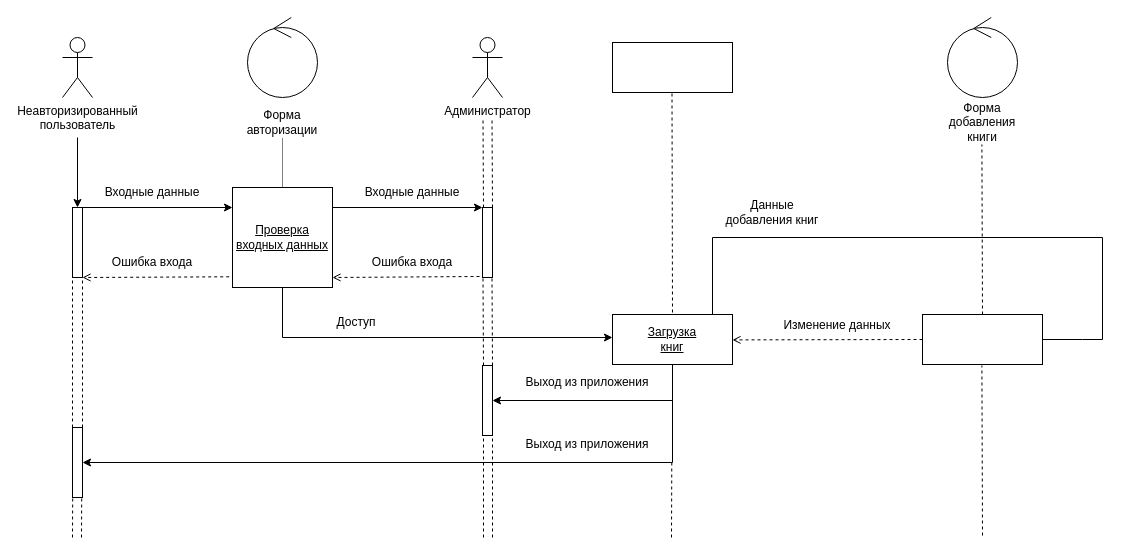
Image size: 1121x556. Some labels were removed from this diagram. The box of each missing label's shape, as (x1, y1, x2, y2) in pixels:
Изменение записей в базе данных: (922, 314, 1042, 364)
Основная страница: (612, 42, 732, 92)
